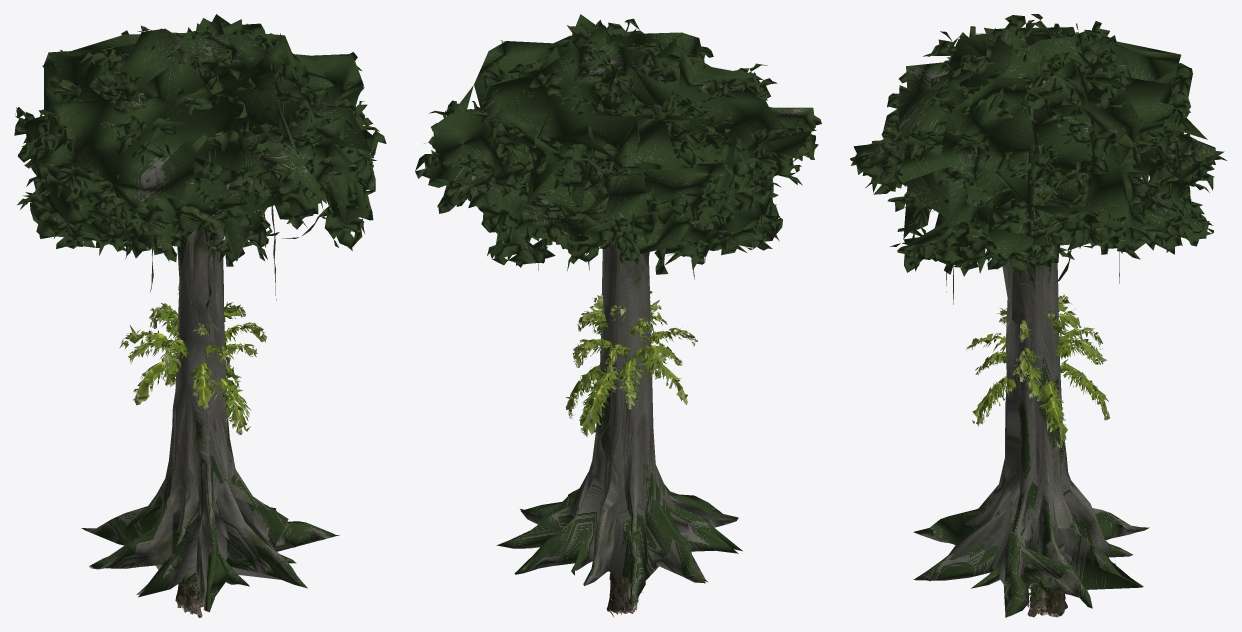
File: meshy_flora.glb
The picture shows the model from 3 angles, left to right: view 1: azimuth 30°, elevation 25°; view 2: azimuth 150°, elevation 25°; view 3: azimuth 270°, elevation 25°; orthographic projection. The views are drawn at different scales.
Parts seen in each view (by area): view 1: Meshy_Boom, Meshy_Boom_far, Meshy_Palm, Meshy_Palm_far, Meshy_StamB; view 2: Meshy_Boom, Meshy_Boom_far, Meshy_Palm, Meshy_Palm_far, Meshy_StamA; view 3: Meshy_Boom, Meshy_Boom_far, Meshy_Palm, Meshy_Palm_far, Meshy_StamA.
Boxes of the visible parts, x1,y1,x2,y2 form: Meshy_Boom: [14, 21, 386, 612]; Meshy_Boom_far: [25, 14, 376, 599]; Meshy_Palm: [119, 283, 266, 434]; Meshy_Palm_far: [129, 293, 265, 431]; Meshy_StamB: [183, 572, 203, 617]; Meshy_Boom: [415, 18, 821, 605]; Meshy_Boom_far: [425, 14, 815, 597]; Meshy_Palm: [565, 291, 696, 436]; Meshy_Palm_far: [570, 295, 697, 430]; Meshy_StamA: [606, 572, 635, 617]; Meshy_Boom: [850, 14, 1226, 616]; Meshy_Boom_far: [853, 27, 1224, 617]; Meshy_Palm: [968, 294, 1110, 450]; Meshy_Palm_far: [966, 296, 1108, 450]; Meshy_StamA: [1040, 588, 1067, 617].
Size of the model in its own units: 9.14 by 14.5 by 8.63.
Materials: 9 (9 with a texture image).
